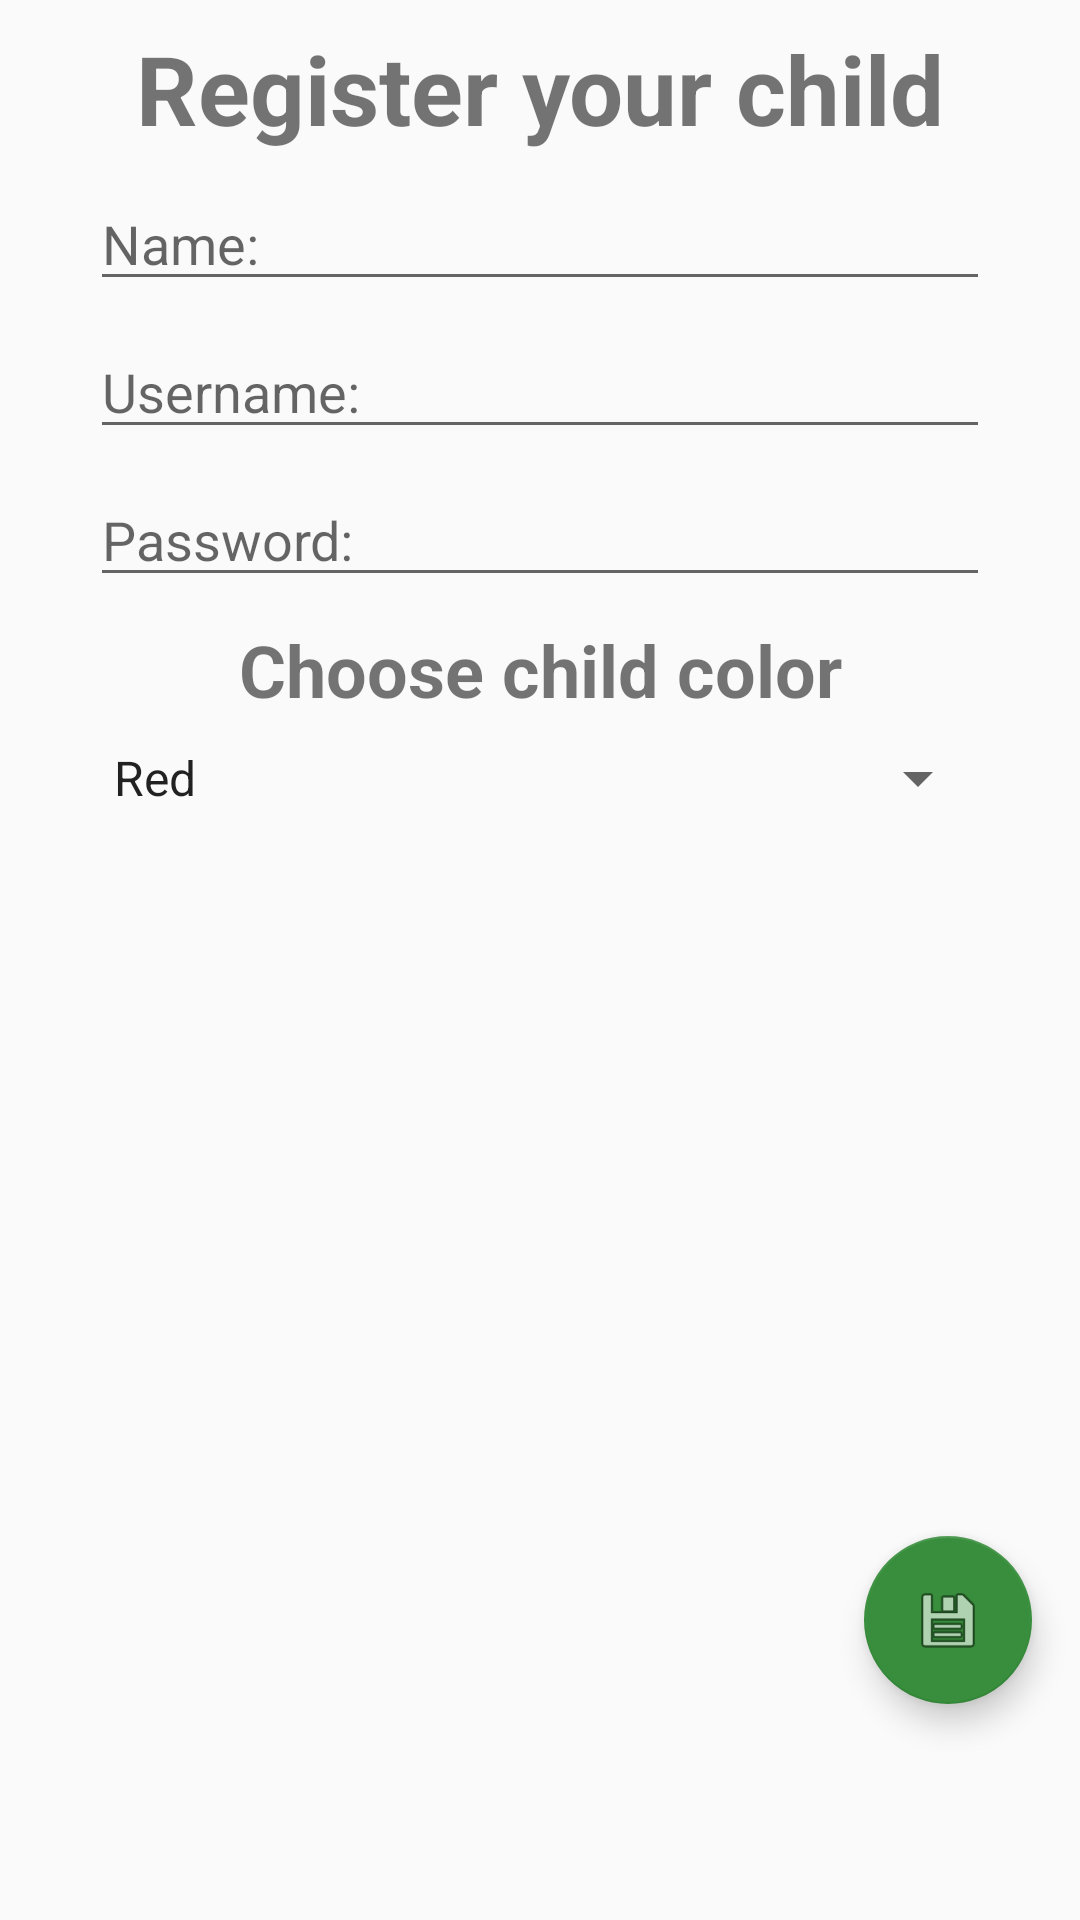

Locate icon controls on the screen. Image size 1080 x 1920, boxes as (x1, y1, x2, y2).
save: (864, 1536, 1032, 1704)
